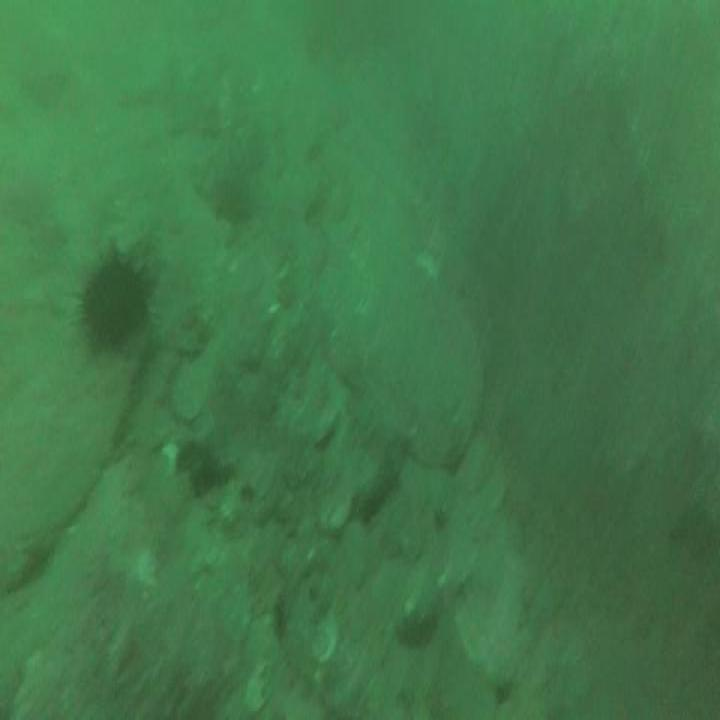echinus: (82, 263, 148, 350)
